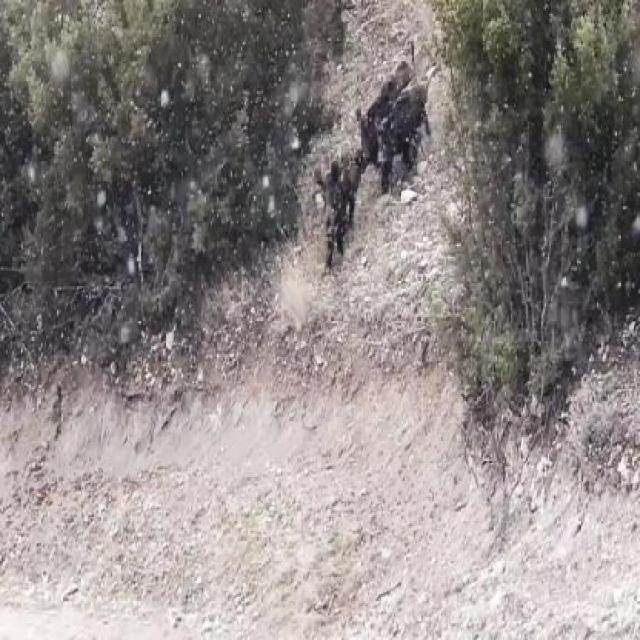pig: (371, 88, 447, 209), (344, 46, 410, 164), (314, 128, 364, 280)
